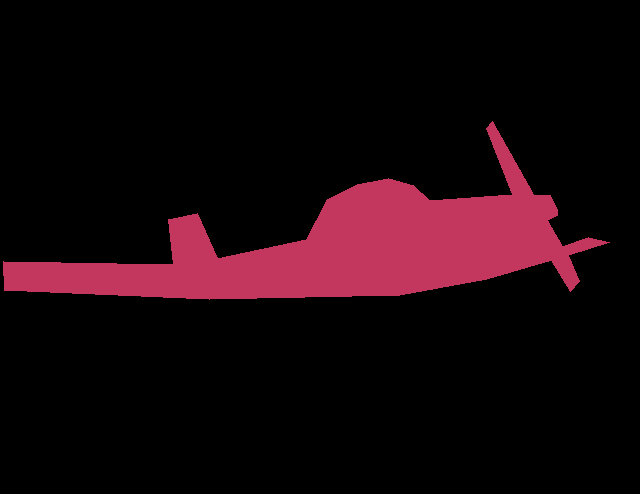Airplane: (3, 121, 610, 299)
